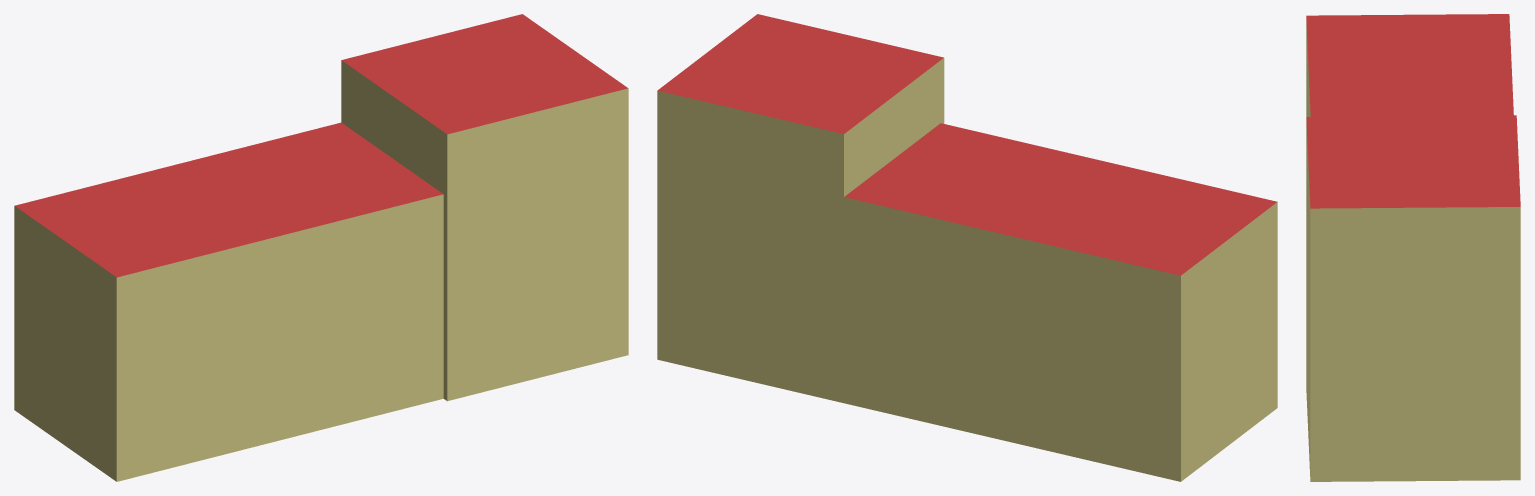
The picture shows the model from 3 angles, left to right: view 1: azimuth 30°, elevation 25°; view 2: azimuth 150°, elevation 25°; view 3: azimuth 270°, elevation 25°; orthographic projection. The views are drawn at different scales.
Bounding box in the file's own units: 24.4 × 8.56 × 12.03.
